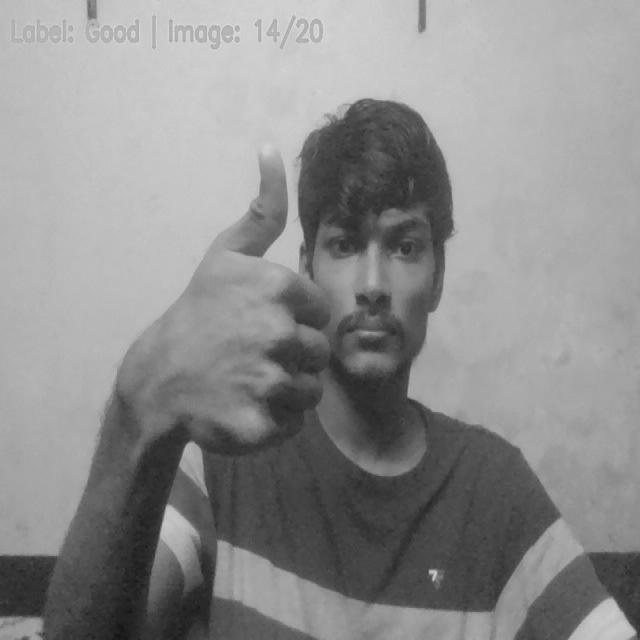Good: (182, 140, 331, 454)
